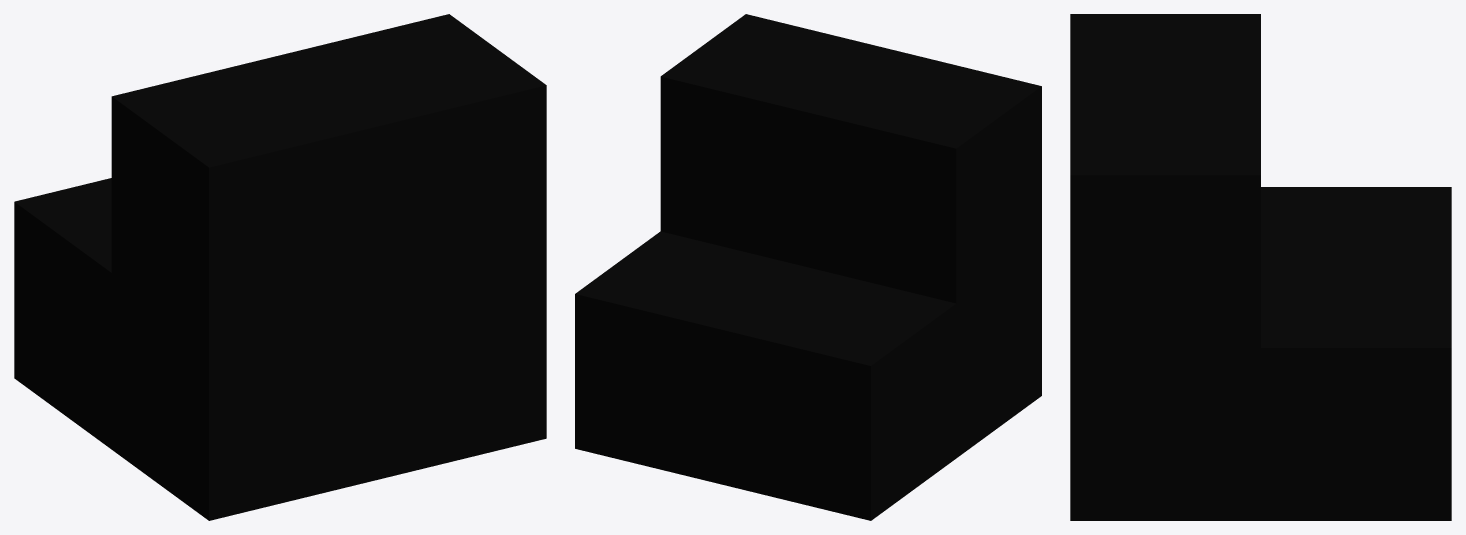
Rendered from lab_stair.obj.
3 renders of one model, left to right at view 1: azimuth 30°, elevation 25°; view 2: azimuth 150°, elevation 25°; view 3: azimuth 270°, elevation 25°, orthographic. The views are drawn at different scales.
Bounding box in the file's own units: 0.875 × 0.875 × 0.875.
